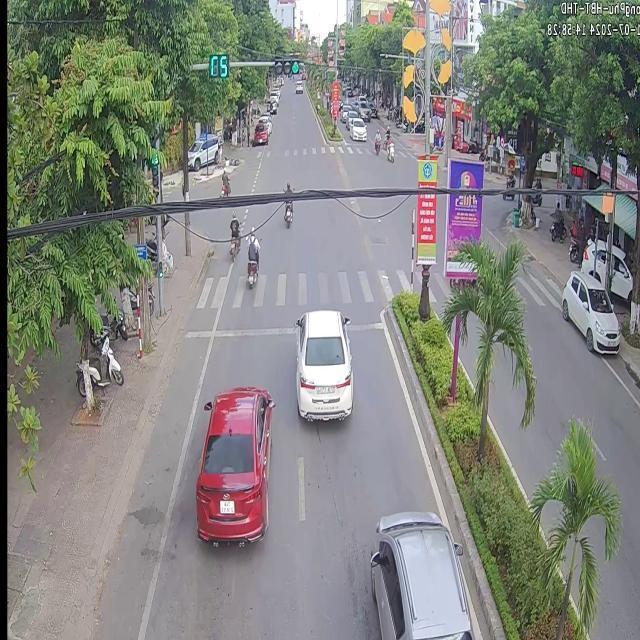car: (369, 509, 470, 638), (194, 385, 273, 540), (293, 309, 352, 420)
green_light: (270, 51, 301, 76), (148, 154, 158, 187)
motobike: (246, 225, 258, 287), (228, 209, 239, 258)
stop_line: (182, 321, 383, 336)
